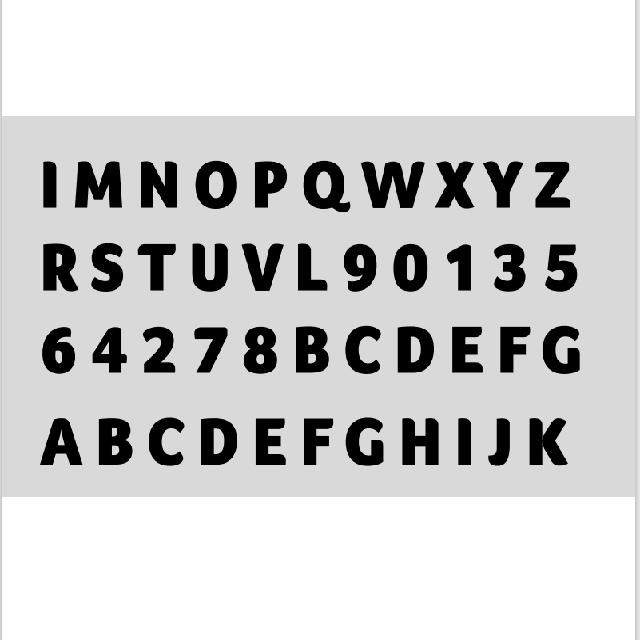0: (388, 242, 429, 296)
1: (447, 241, 476, 295)
2: (138, 324, 182, 379)
3: (492, 242, 525, 294)
4: (92, 321, 127, 376)
5: (545, 240, 578, 297)
7: (193, 321, 231, 380)
8: (242, 325, 274, 376)
9: (341, 238, 379, 298)
A: (38, 405, 83, 471)
B: (289, 322, 335, 376), (95, 411, 132, 470)
C: (148, 412, 187, 470), (344, 322, 382, 376)
D: (395, 324, 435, 379), (198, 412, 237, 468)
E: (246, 412, 294, 470), (449, 322, 483, 374)
F: (304, 413, 337, 468), (497, 322, 530, 375)
G: (346, 414, 386, 468), (544, 321, 582, 377)
H: (400, 409, 442, 466)
I: (448, 409, 478, 471), (36, 151, 64, 215)
J: (485, 409, 513, 470)
K: (526, 409, 571, 471)
L: (294, 236, 326, 291)
M: (78, 151, 128, 211)
N: (137, 155, 178, 216)
O: (190, 155, 243, 212)
P: (254, 159, 287, 215)
Q: (302, 155, 352, 215)
R: (43, 240, 81, 296)
S: (41, 322, 77, 378), (90, 239, 124, 297)
T: (136, 239, 176, 297)
U: (192, 236, 232, 294)
V: (240, 240, 282, 295)
W: (364, 153, 427, 210)
X: (435, 153, 474, 210)
Y: (482, 157, 522, 212)
Z: (533, 155, 572, 215)
